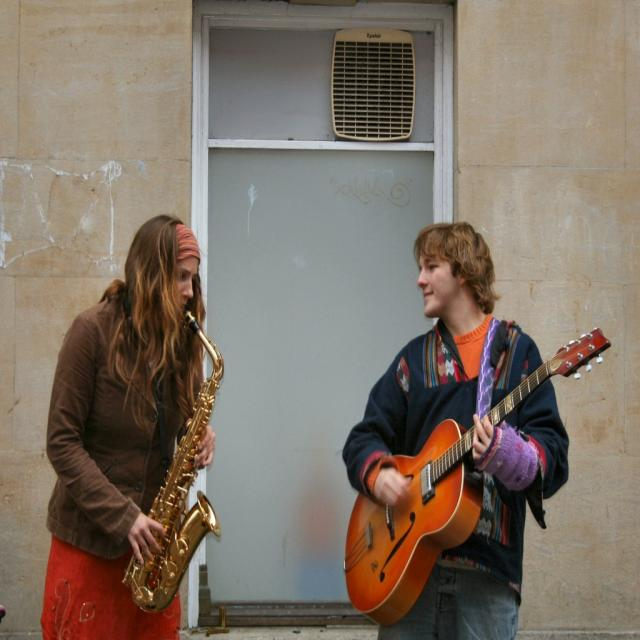guitar: (344, 320, 612, 636)
saxophone: (120, 308, 225, 614)
